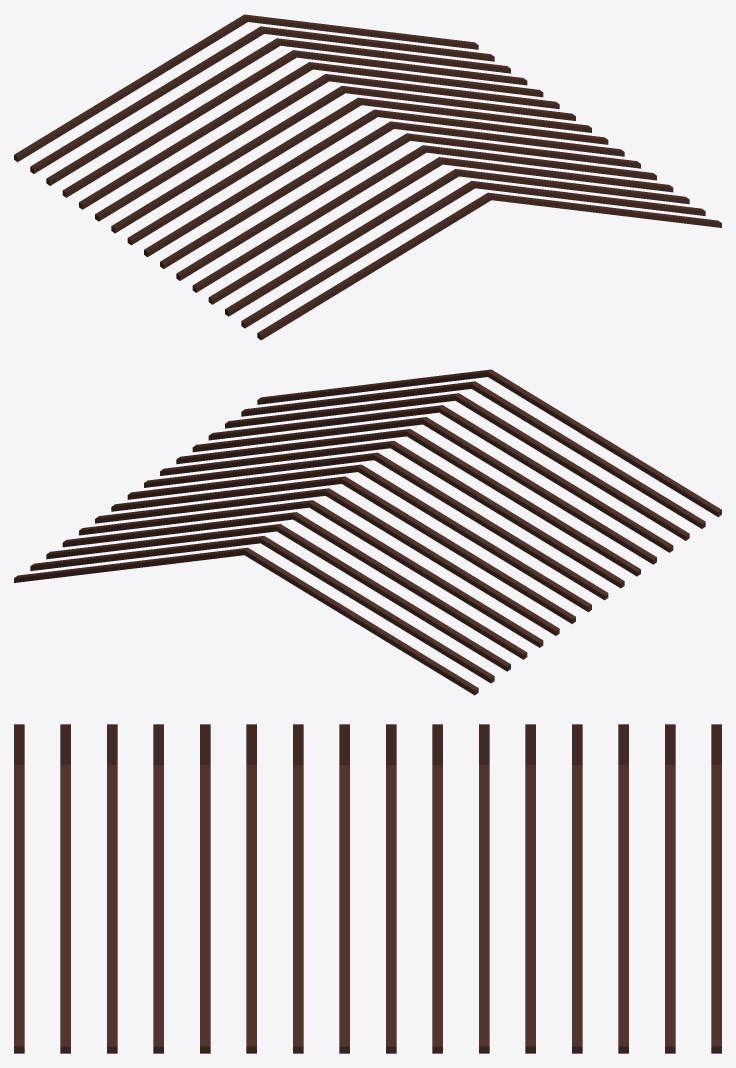
File: ROOF_SUPPORTS 1.fbx
3 renders of one model, top to bottom at view 1: azimuth 30°, elevation 25°; view 2: azimuth 150°, elevation 25°; view 3: azimuth 270°, elevation 25°, orthographic. The views are drawn at different scales.
Parts seen in each view (by area): view 1: LENGTHSUPPORTS; view 2: LENGTHSUPPORTS; view 3: LENGTHSUPPORTS.
Part boxes in pixels (<box>): LENGTHSUPPORTS: <box>14,14,721,340</box>; LENGTHSUPPORTS: <box>14,369,721,695</box>; LENGTHSUPPORTS: <box>14,724,721,1053</box>.
Size of the model in its own units: 1639 by 302 by 1523.
